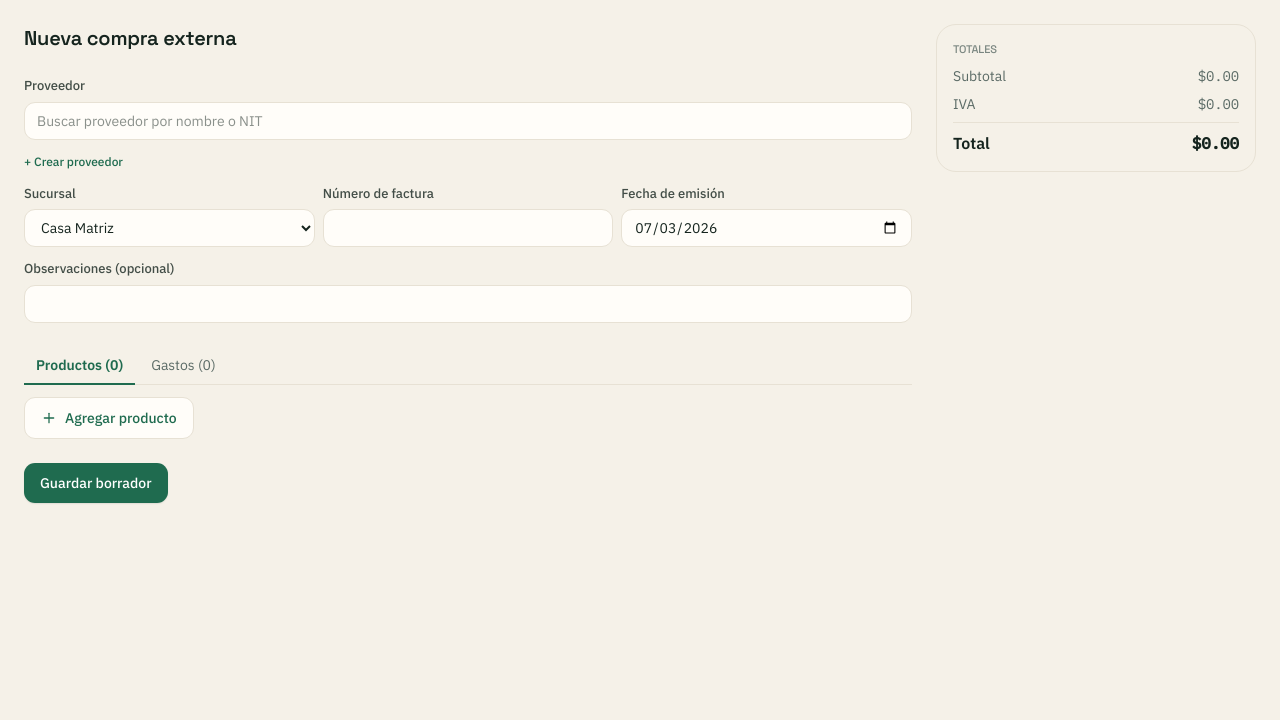
Test: CompraFormPage (alta) › exige al menos una línea antes de guardar
This screenshot has width=1280, height=720.
Type "F-001" into the field labelled "Número de factura" at (468, 228), box top-left (323, 209), bottom-right (613, 247)
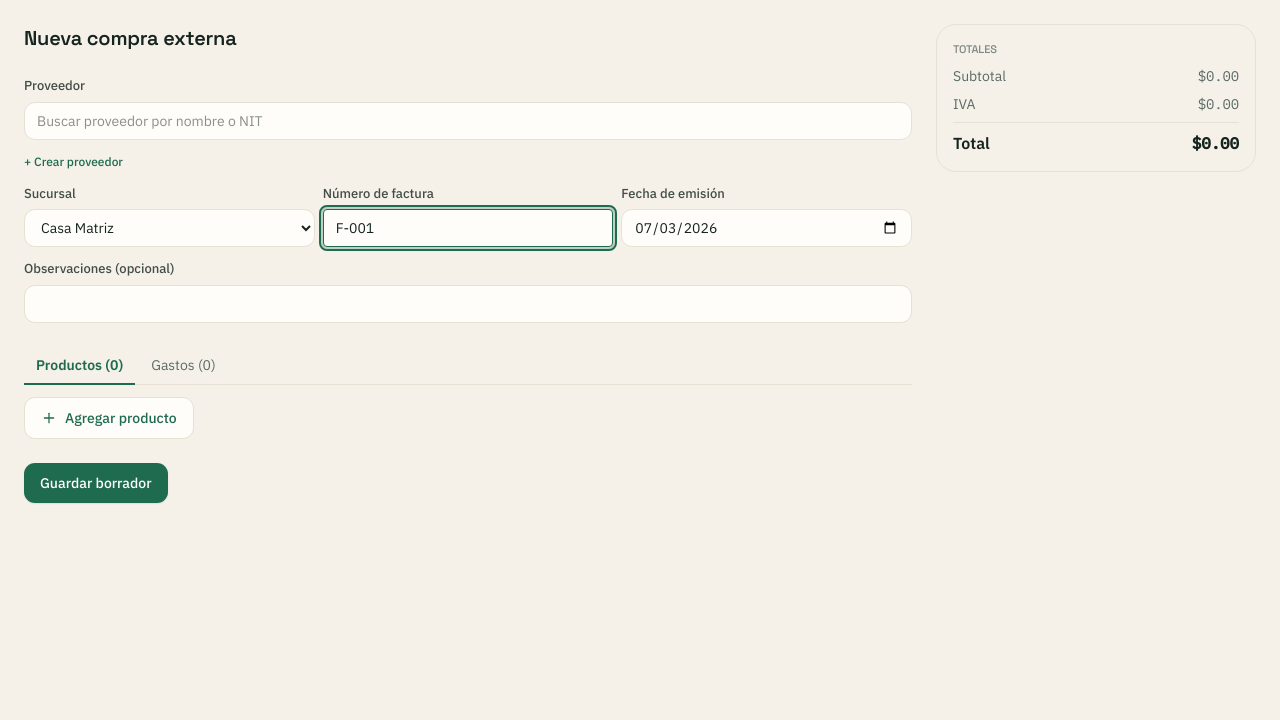
Click the button "Guardar borrador" at (96, 482), box top-left (24, 462), bottom-right (168, 502)
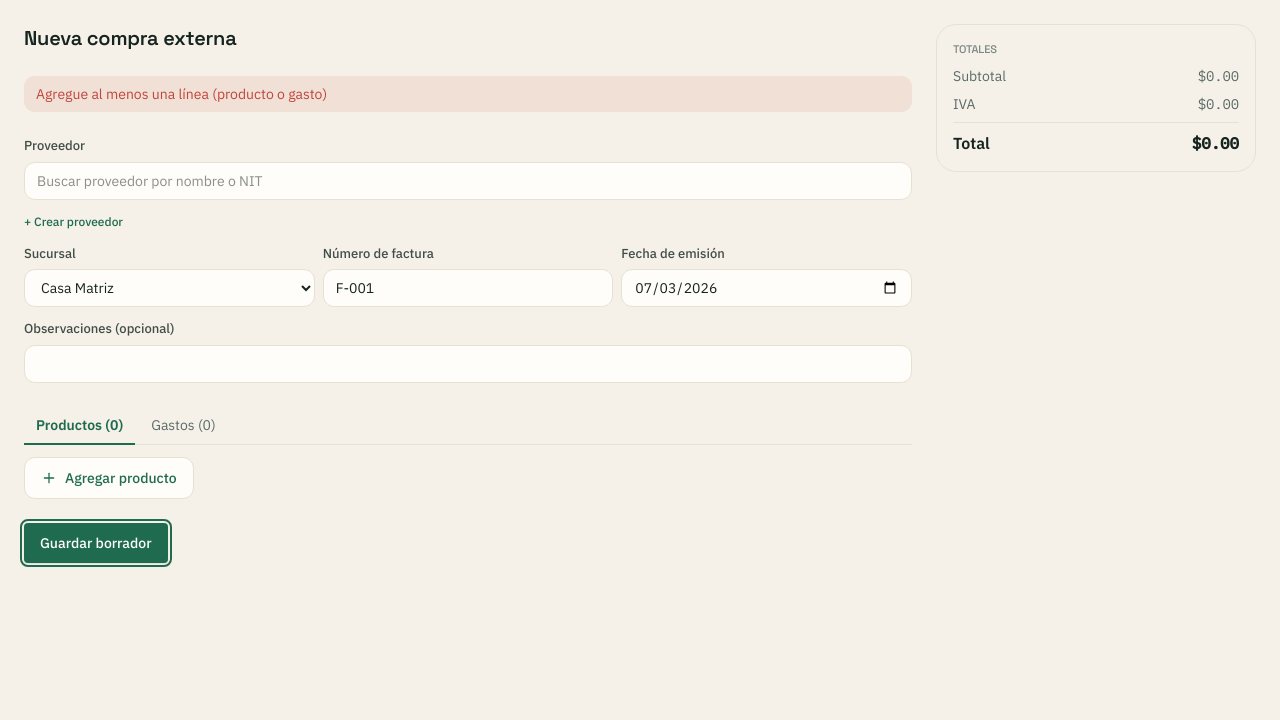
Now the text "Agregue al menos una línea (producto o gasto)" is shown, box top-left (24, 76), bottom-right (912, 112)
